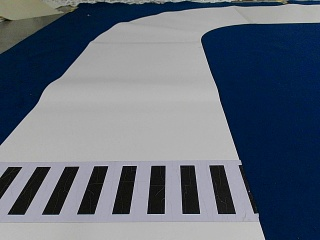crosswalk: (0, 166, 238, 215)
